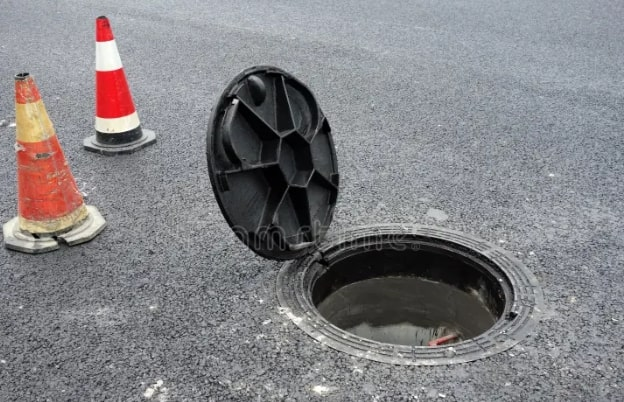open_manhole: (311, 229, 524, 355)
